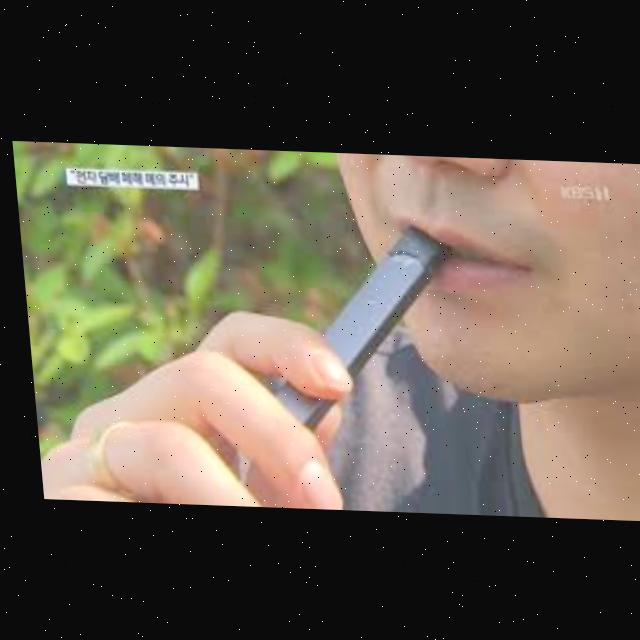vape: (260, 218, 456, 432)
